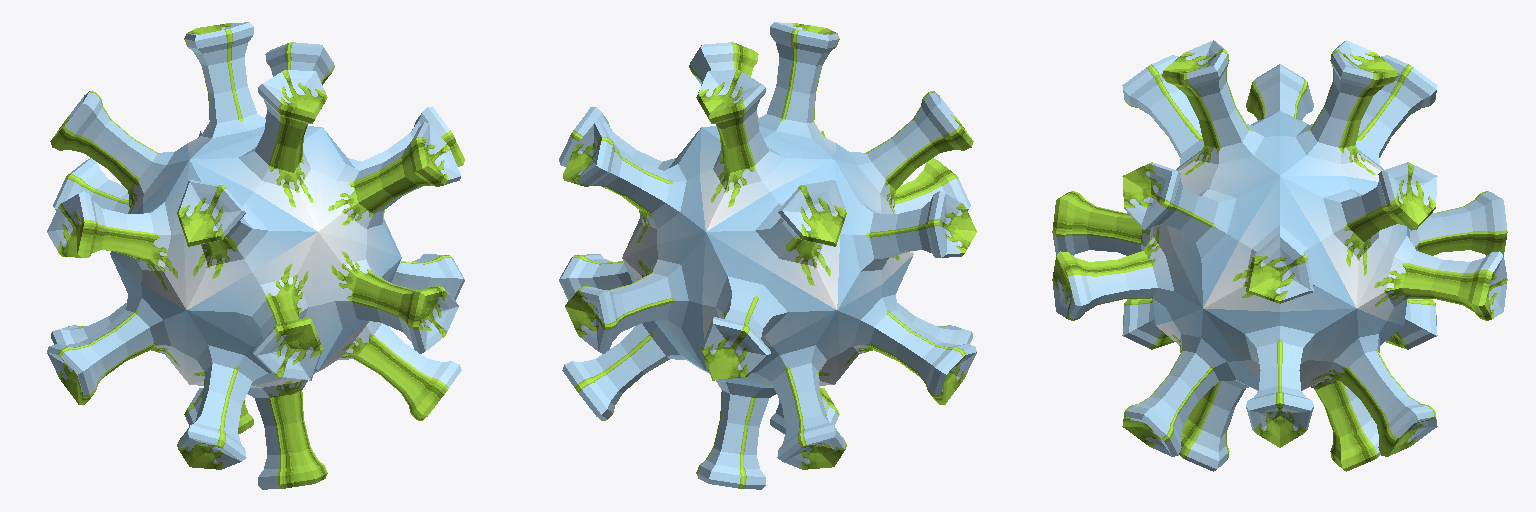
The picture shows the model from 3 angles: view 1: azimuth 30°, elevation 25°; view 2: azimuth 150°, elevation 25°; view 3: azimuth 270°, elevation 25°; orthographic projection.
Parts seen in each view (by area): view 1: obj1; view 2: obj1; view 3: obj1.
Boxes of the visible parts, x1,y1,x2,y2 form: obj1: [47, 22, 464, 489]; obj1: [559, 22, 976, 489]; obj1: [1052, 40, 1507, 471].
Size of the model in its own units: 21.19 by 21.19 by 21.19.
1 materials, 1 textured.